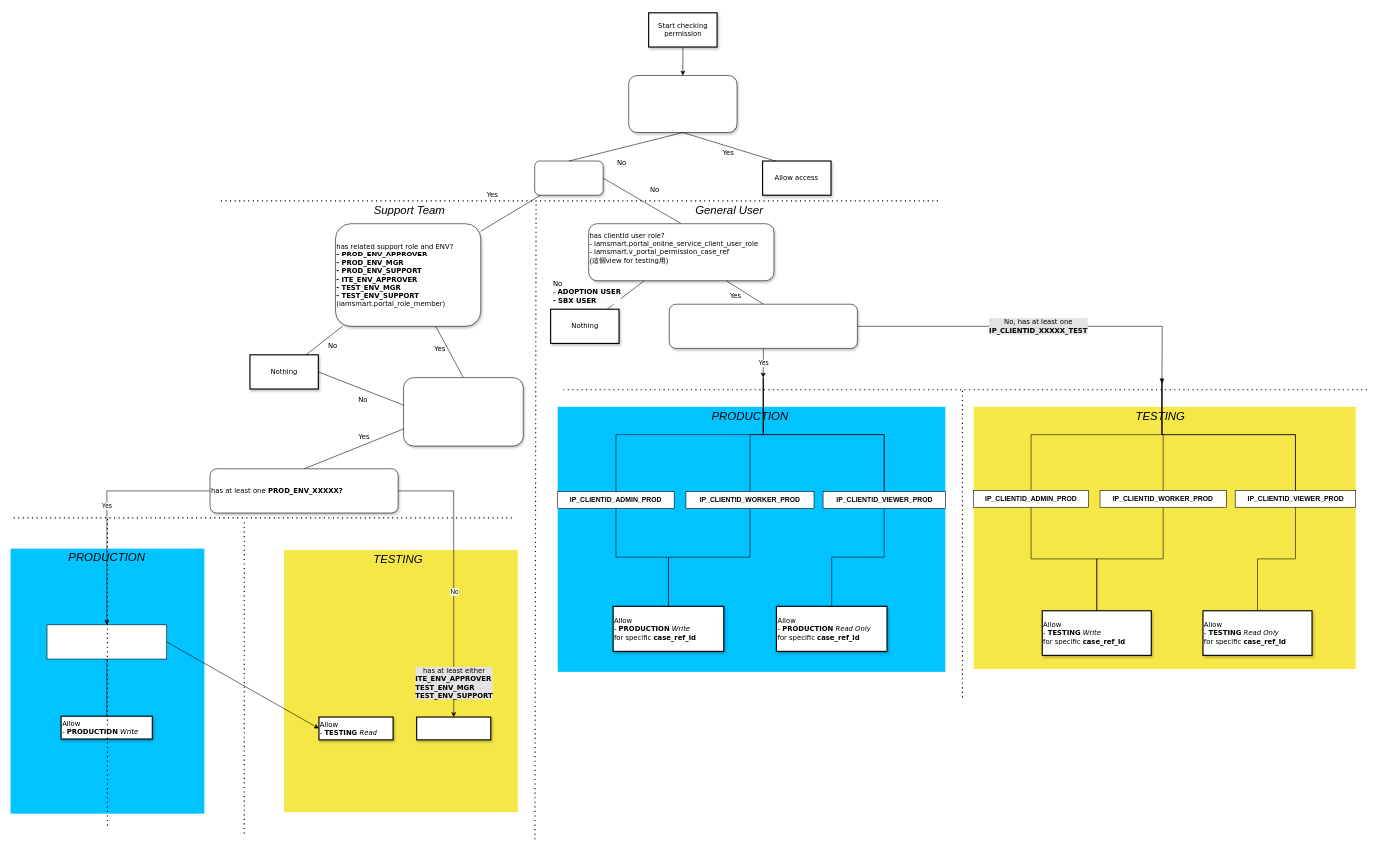
Some shapes in this 1378 by 850 pixel diagram are drawn without their labels. Here are the shapes that lost their labels. From the top down, the centre of each, then its label:
At point 683,105: "is the creator of the resource? (create_by)".
At point 569,178: "is Support type? (SUPPORT/AUDIT)".
At point 763,326: "has at least one IP_CLIENTID_XXXXX_PROD ?".
At point 464,412: "has user group (BD/NBD support)? (iamsmart.portal_user_group)".
At point 106,641: "- PROD_ENV_APPROVER - PROD_ENV_MGR - PROD_ENV_SUPPORT".
At point 454,729: "Allow - TESTING Write".
